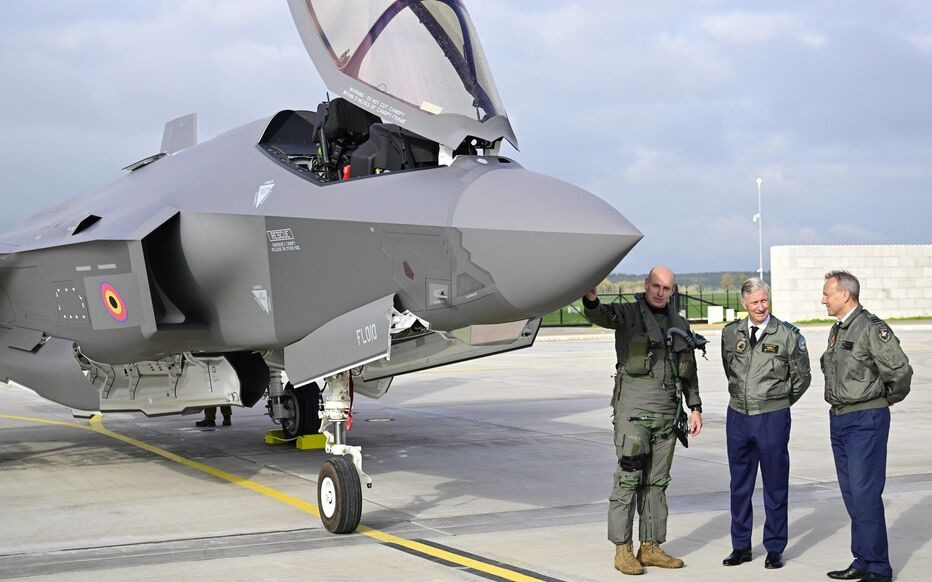F35: (0, 1, 652, 547)
